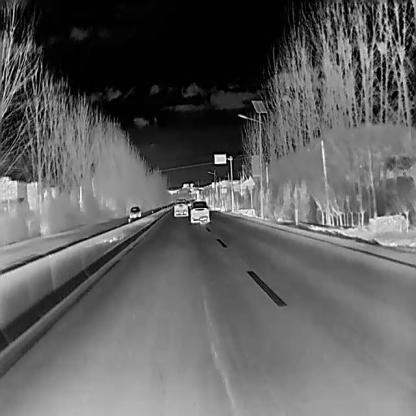car: (189, 199, 209, 222), (173, 198, 188, 217), (129, 204, 140, 218)
